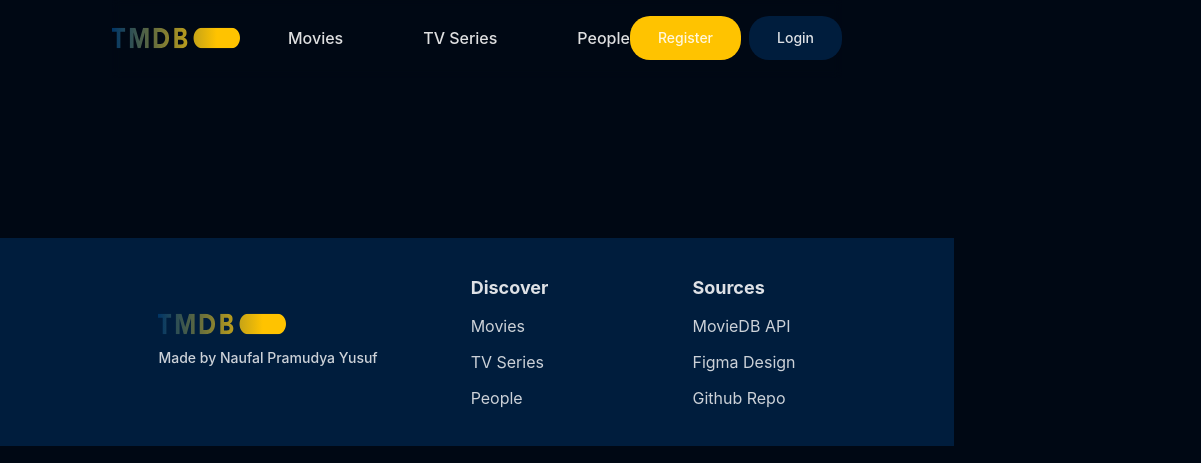
Test case: Layout consisting of header and footer › should direct to discover people page
Click the link "People" next to "Register" at [604, 38], box x1=577 y1=26 x2=630 y2=50
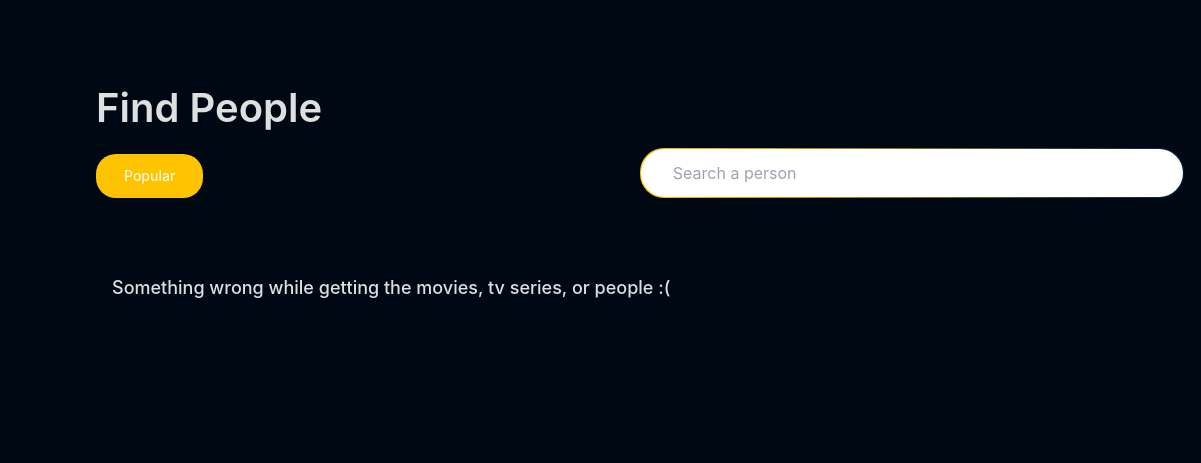
Result: the heading "Find People" is shown at x1=96 y1=78 x2=322 y2=138
